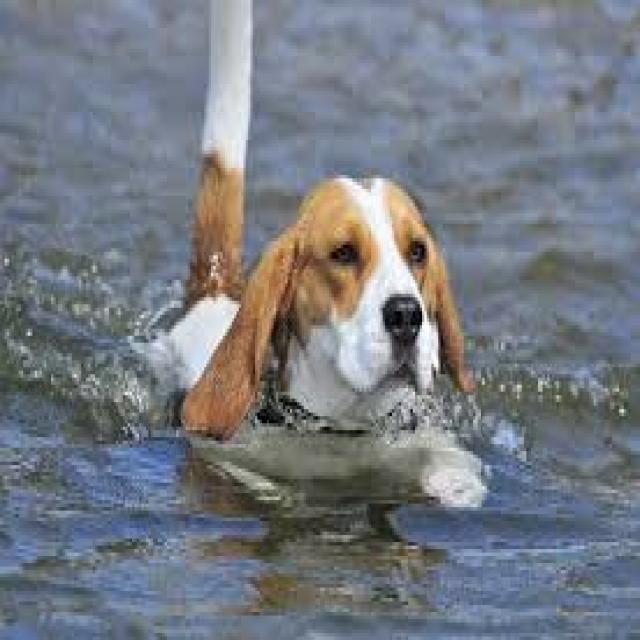Dog: (179, 0, 480, 444)
